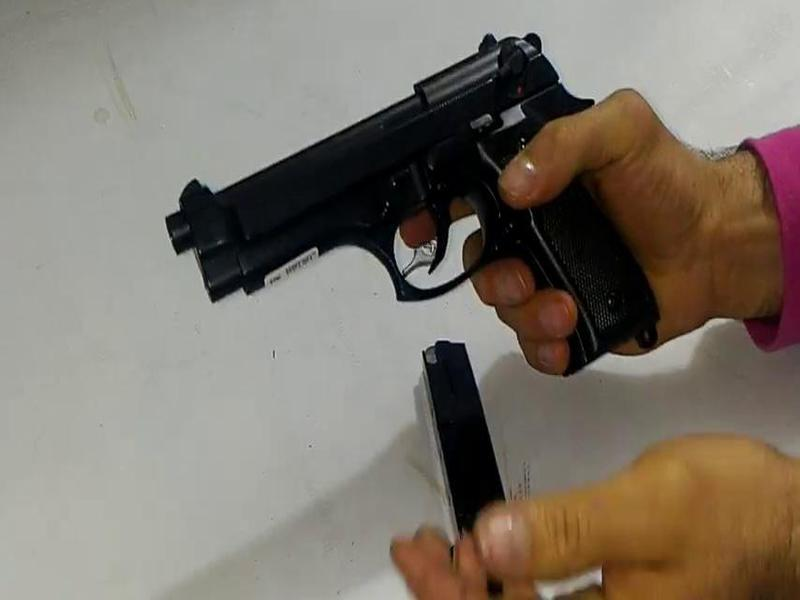Pistola: (137, 30, 661, 377)
